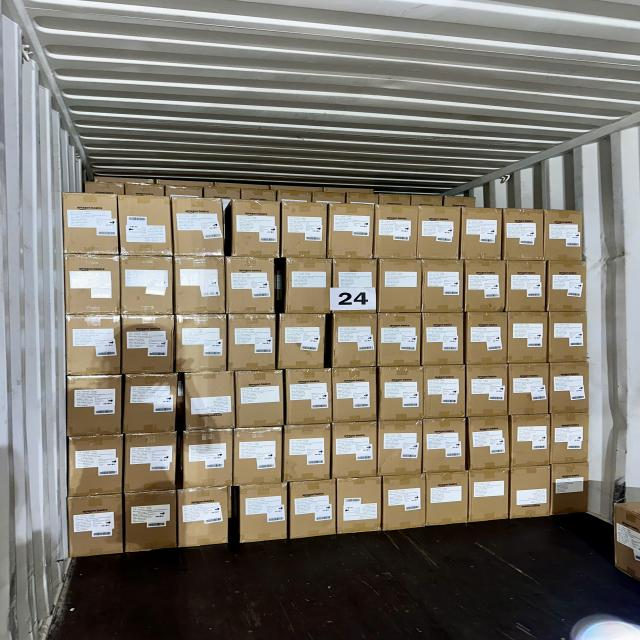Carton: (66, 498, 122, 562), (64, 192, 120, 255), (66, 375, 120, 438), (66, 317, 121, 378), (66, 255, 121, 316), (122, 376, 177, 436), (122, 313, 175, 375), (121, 193, 173, 256), (123, 431, 177, 491), (180, 488, 234, 548), (122, 255, 175, 316), (67, 435, 121, 494), (174, 196, 227, 256), (126, 490, 178, 551), (184, 370, 236, 430), (238, 482, 289, 543), (176, 314, 228, 373), (182, 431, 234, 489), (177, 257, 229, 315), (236, 429, 286, 488), (233, 198, 282, 258), (291, 479, 339, 539), (225, 257, 273, 316), (236, 369, 283, 428), (278, 316, 327, 372), (285, 370, 332, 428), (227, 316, 274, 374), (328, 204, 374, 262), (283, 424, 329, 481), (337, 476, 382, 534), (281, 200, 326, 258), (332, 258, 378, 314), (286, 258, 332, 314), (332, 368, 378, 423), (380, 368, 425, 424), (332, 424, 377, 480), (378, 421, 422, 478), (375, 315, 420, 370), (384, 474, 428, 530), (376, 260, 421, 314), (334, 316, 379, 370), (417, 204, 460, 259), (427, 472, 470, 526), (423, 417, 466, 471), (468, 362, 511, 416), (374, 203, 416, 258), (468, 313, 510, 367), (422, 315, 464, 369), (466, 260, 509, 312), (424, 368, 466, 421), (508, 414, 550, 467), (509, 466, 550, 520), (469, 416, 511, 468), (509, 363, 550, 416), (422, 260, 463, 312), (507, 314, 548, 366), (470, 471, 510, 524), (463, 207, 503, 260), (550, 463, 588, 518), (503, 207, 542, 259), (545, 208, 584, 260), (548, 310, 586, 363), (551, 360, 589, 412), (550, 414, 588, 466), (506, 261, 544, 312), (548, 262, 586, 312)
